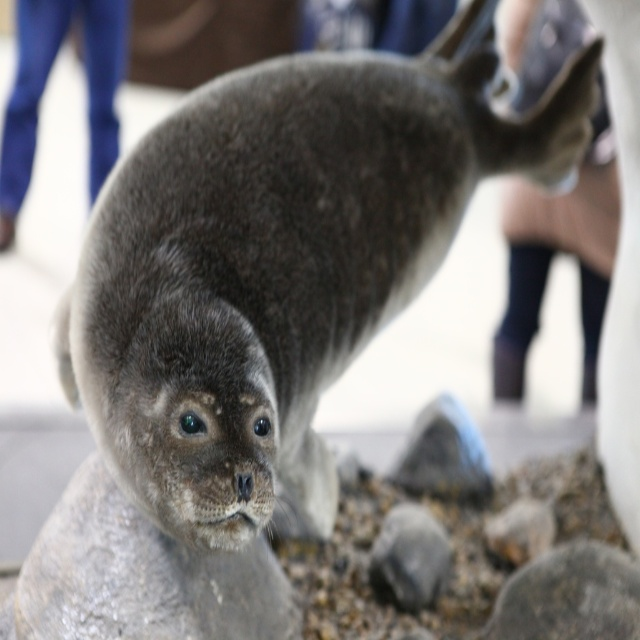Harbor seal: (56, 49, 480, 554)
